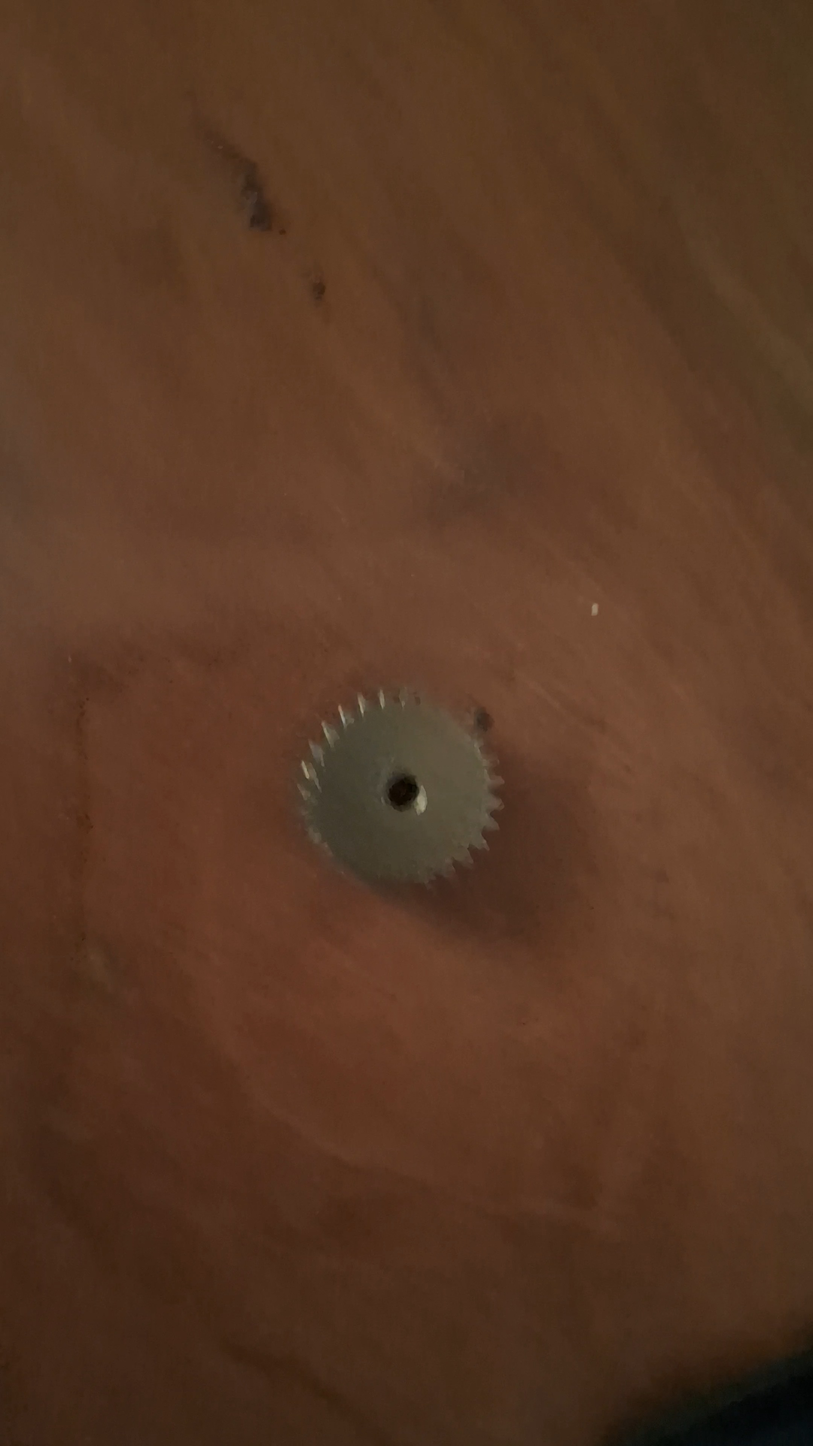spur gear: (299, 692, 502, 882)
